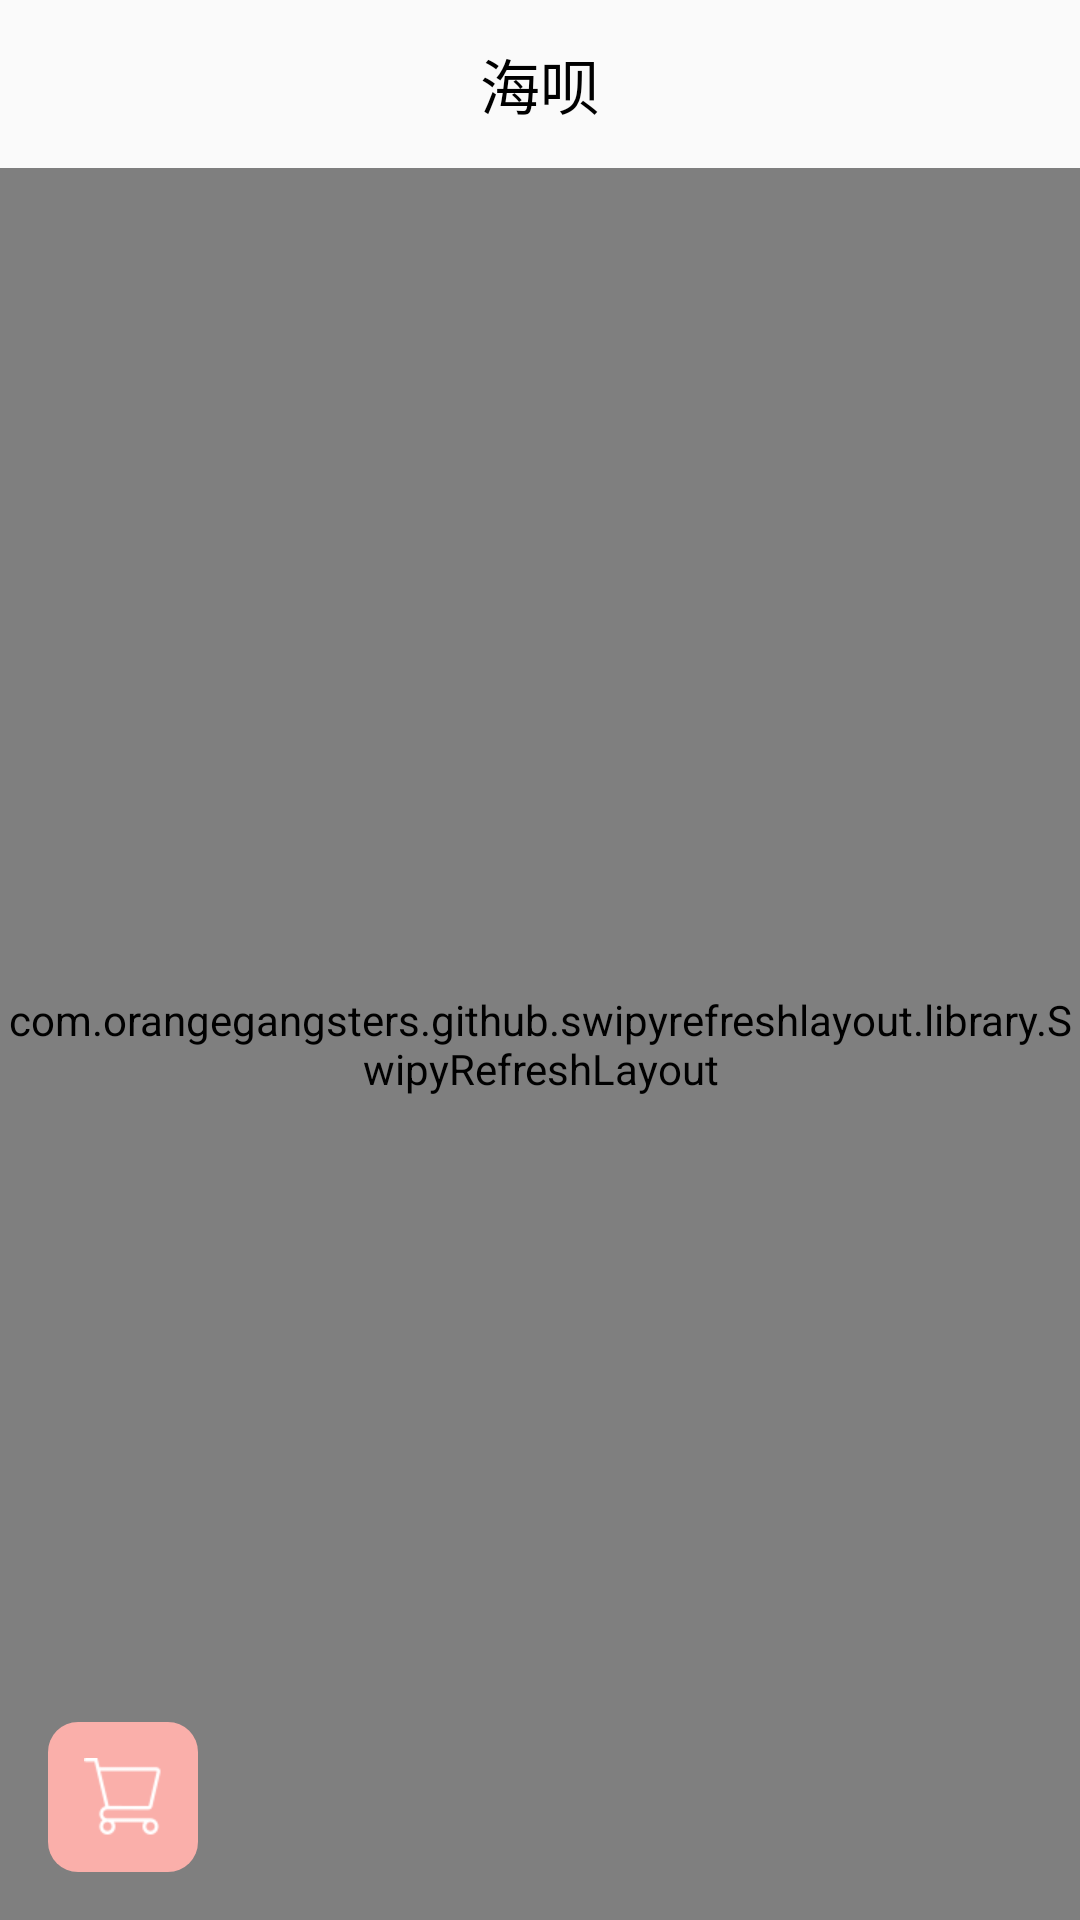

Where to tap for icons on this 1080w x 1920h app screen, as point (x, y):
cart: point (123, 1797)
